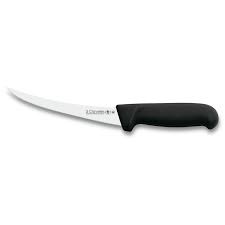knife: (5, 85, 219, 136)
